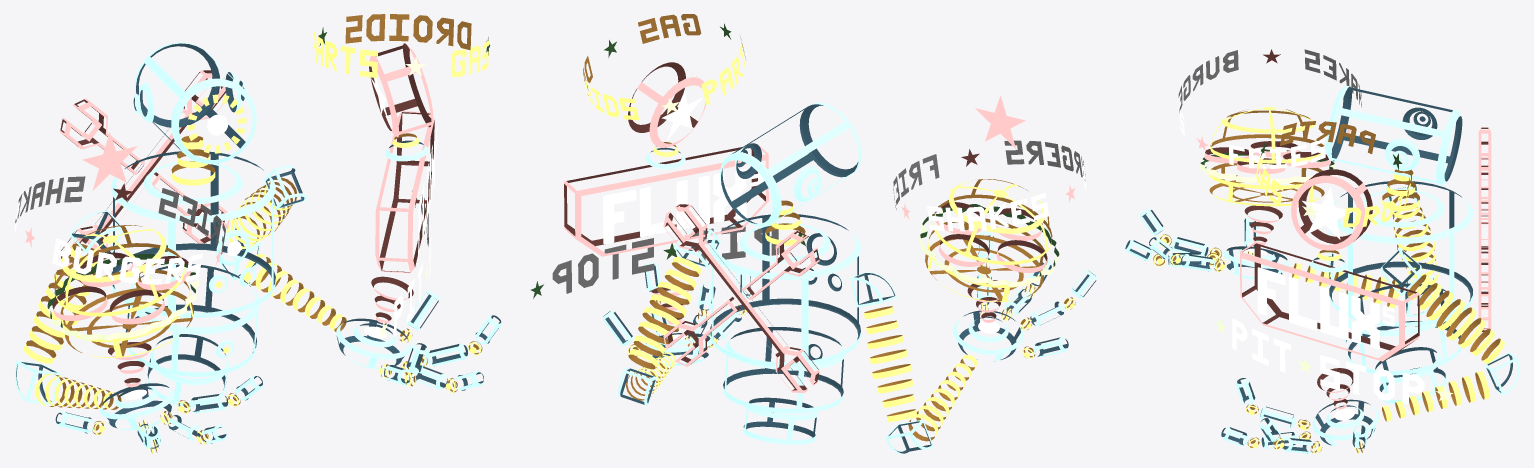
File: InterpolateOnSelect.glb
3 views of the same model, side by side, from view 1: azimuth 30°, elevation 25°; view 2: azimuth 150°, elevation 25°; view 3: azimuth 270°, elevation 25° (orthographic). The views are drawn at different scales.
Parts seen in each view (by area): view 1: Object_3, Object_2; view 2: Object_3, Object_2; view 3: Object_3, Object_2.
Part boxes in pixels (left/top/right/bottom): Object_3: left=14, top=31, right=501, bottom=453; Object_2: left=15, top=14, right=501, bottom=452; Object_3: left=564, top=43, right=1096, bottom=453; Object_2: left=531, top=14, right=1096, bottom=453; Object_3: left=1126, top=85, right=1519, bottom=453; Object_2: left=1125, top=49, right=1512, bottom=453.
Bounding box in the file's own units: 1.98 × 1.42 × 1.59.
2 materials, 2 textured.
